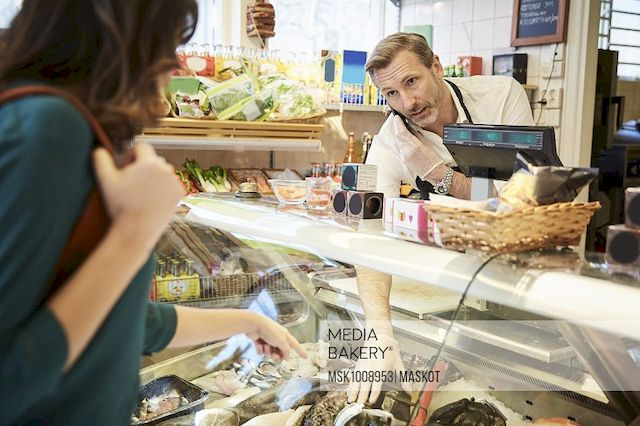phone: (384, 97, 420, 152)
